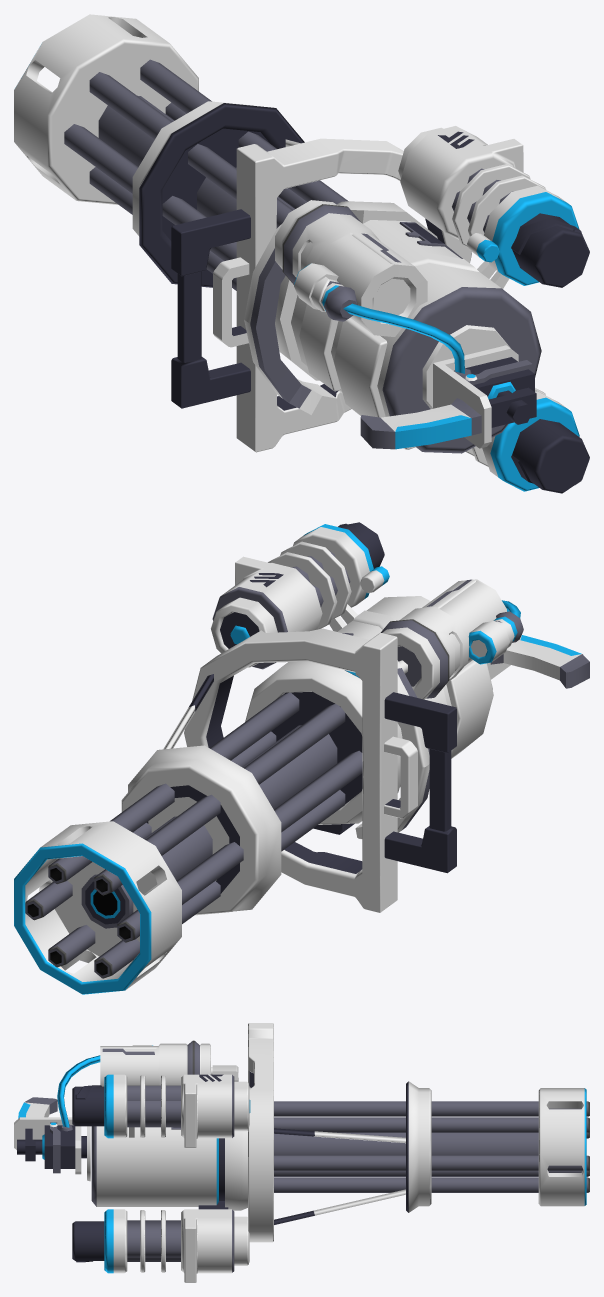
The model's file is kotori.glb.
The picture shows the model from 3 angles, top to bottom: view 1: azimuth 30°, elevation 25°; view 2: azimuth 150°, elevation 25°; view 3: azimuth 270°, elevation 25°; orthographic projection. The views are drawn at different scales.
Visible parts, largest first — view 1: Kotori_Original_Weapon; view 2: Kotori_Original_Weapon; view 3: Kotori_Original_Weapon.
Boxes of the visible parts, <box> form: Kotori_Original_Weapon: <box>14,14,589,493</box>; Kotori_Original_Weapon: <box>14,522,589,994</box>; Kotori_Original_Weapon: <box>14,1023,589,1282</box>.
Size of the model in its own units: 0.2596 by 0.2498 by 0.6814.
Materials: 1 (1 with a texture image).
